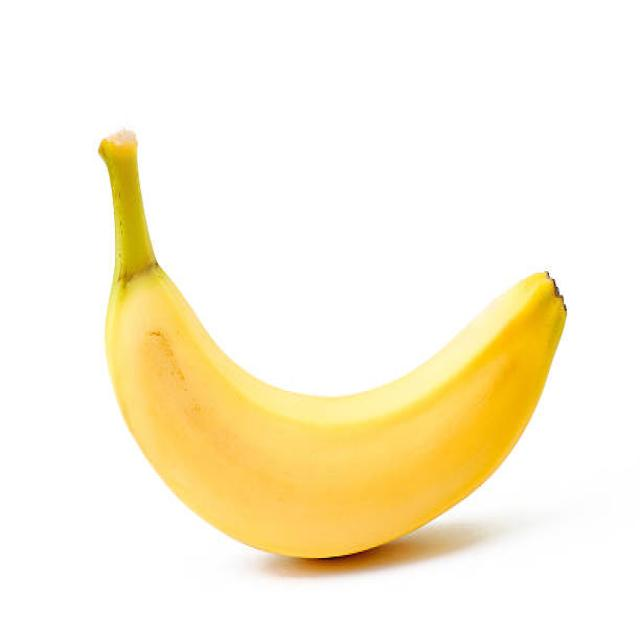Ripe: (102, 121, 570, 566)
